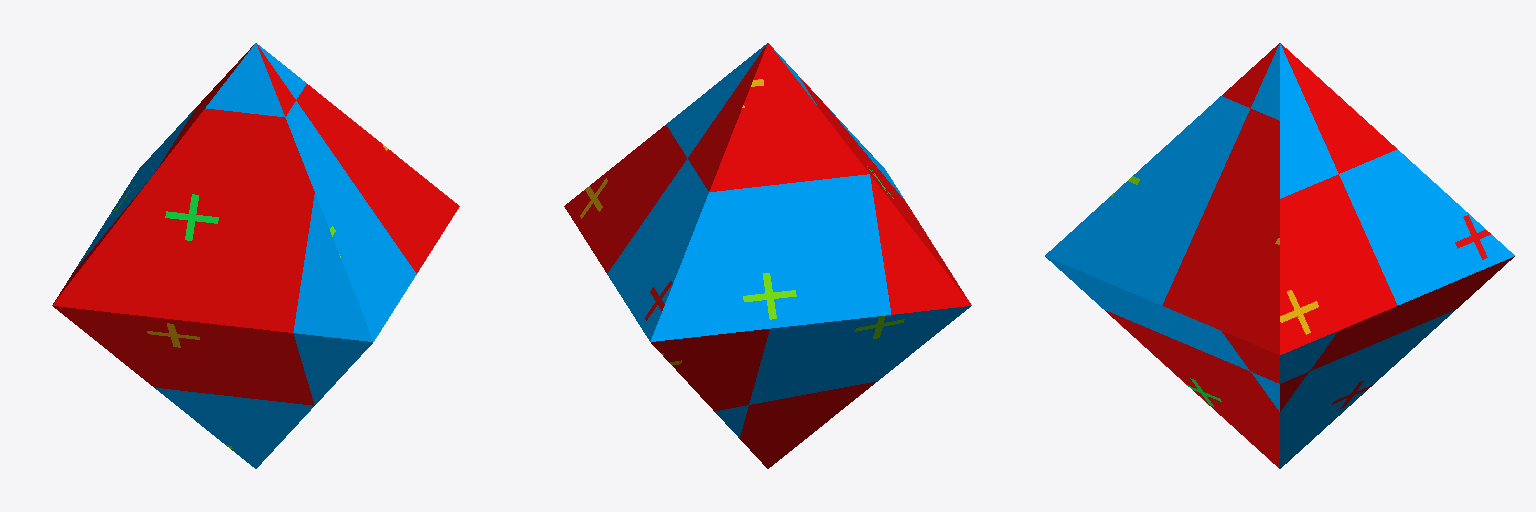
3 renders of one model, left to right at view 1: azimuth 30°, elevation 25°; view 2: azimuth 150°, elevation 25°; view 3: azimuth 270°, elevation 25°, orthographic.
Visible parts, largest first — view 1: ship; view 2: ship; view 3: ship.
Boxes of the visible parts, x1,y1,x2,y2 form: ship: [52, 43, 459, 468]; ship: [564, 43, 971, 468]; ship: [1045, 43, 1514, 468].
Bounding box in the file's own units: 0.5 × 0.5 × 0.5.
Materials: 1 (1 with a texture image).